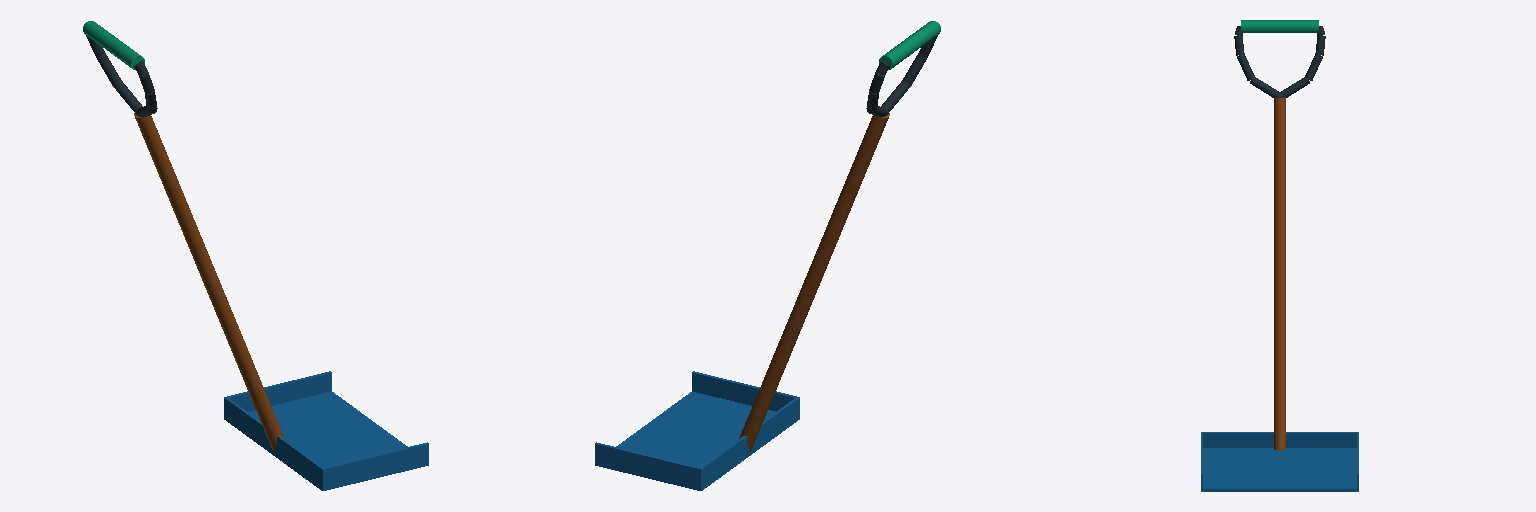
URDF robot description (d_handle_snow_shovel):
<?xml version="1.0" encoding="utf-8"?>
<robot name="d_handle_snow_shovel">
  <!-- Units: metres, radians, kilograms. Geometry prototype; all parts rigid. -->
  <!-- left_grip_frame +Z is the D crossbar free-rotation axis; right_grip_frame +Z is the shaft free-rotation axis. These fixed reference frames do not enable controller freedoms. -->
  <!-- Inertia: homogeneous 650 kg/m^3 proxy, including overlapping primitive joints; not a measured material or load model. -->
  <link name="shovel_tool">
    <inertial>
      <origin xyz="-0.08124559353 -5.296994915e-08 0.3355950539" rpy="0 0 0" />
      <mass value="1.854031007" />
      <inertia ixx="0.3378857647" ixy="-2.456975407e-08" ixz="0.1559840999" iyy="0.4022006548" iyz="4.987525286e-08" izz="0.1067577817" />
    </inertial>
    <visual name="shaft">
      <origin xyz="-0.182860464 -7.360508846e-08 0.465362279" rpy="1.472101769e-07 -0.3744072732 -0" />
      <geometry>
        <cylinder radius="0.018" length="1" />
      </geometry>
      <material name="shaft_material">
        <color rgba="0.53 0.32 0.15 1" />
      </material>
    </visual>
    <collision name="shaft">
      <origin xyz="-0.182860464 -7.360508846e-08 0.465362279" rpy="1.472101769e-07 -0.3744072732 -0" />
      <geometry>
        <cylinder radius="0.018" length="1" />
      </geometry>
    </collision>
    <visual name="d_handle_crossbar">
      <origin xyz="-0.4388651136 -1.766522123e-07 1.11686947" rpy="5.383784227e-08 -1.57079619 -1.570796327" />
      <geometry>
        <cylinder radius="0.018" length="0.22" />
      </geometry>
      <material name="d_handle_crossbar_material">
        <color rgba="0.09 0.57 0.43 1" />
      </material>
    </visual>
    <collision name="d_handle_crossbar">
      <origin xyz="-0.4388651136 -1.766522123e-07 1.11686947" rpy="5.383784227e-08 -1.57079619 -1.570796327" />
      <geometry>
        <cylinder radius="0.018" length="0.22" />
      </geometry>
    </collision>
    <visual name="d_handle_minus_0">
      <origin xyz="-0.4342935959 -0.1140001748 1.105235397" rpy="-2.831889856 0.3744072732 3.141592654" />
      <geometry>
        <cylinder radius="0.012" length="0.0262488095" />
      </geometry>
      <material name="d_handle_minus_0_material">
        <color rgba="0.18 0.23 0.26 1" />
      </material>
    </visual>
    <collision name="d_handle_minus_0">
      <origin xyz="-0.4342935959 -0.1140001748 1.105235397" rpy="-2.831889856 0.3744072732 3.141592654" />
      <geometry>
        <cylinder radius="0.012" length="0.0262488095" />
      </geometry>
    </collision>
    <visual name="d_handle_minus_1">
      <origin xyz="-0.4196647587 -0.1150001689 1.068006415" rpy="3.032931291 0.3744072732 3.141592654" />
      <geometry>
        <cylinder radius="0.012" length="0.05532630477" />
      </geometry>
      <material name="d_handle_minus_1_material">
        <color rgba="0.18 0.23 0.26 1" />
      </material>
    </visual>
    <collision name="d_handle_minus_1">
      <origin xyz="-0.4196647587 -0.1150001689 1.068006415" rpy="3.032931291 0.3744072732 3.141592654" />
      <geometry>
        <cylinder radius="0.012" length="0.05532630477" />
      </geometry>
    </collision>
    <visual name="d_handle_minus_2">
      <origin xyz="-0.3968072017 -0.09600015972 1.009836132" rpy="2.802518793 -0.4565578704 1.570796327" />
      <geometry>
        <cylinder radius="0.012" length="0.07696752562" />
      </geometry>
      <material name="d_handle_minus_2_material">
        <color rgba="0.18 0.23 0.26 1" />
      </material>
    </visual>
    <collision name="d_handle_minus_2">
      <origin xyz="-0.3968072017 -0.09600015972 1.009836132" rpy="2.802518793 -0.4565578704 1.570796327" />
      <geometry>
        <cylinder radius="0.012" length="0.07696752562" />
      </geometry>
    </collision>
    <visual name="d_handle_minus_3">
      <origin xyz="-0.374863949 -0.04000015089 0.9539926664" rpy="2.946526272 -1.043939411 1.570796327" />
      <geometry>
        <cylinder radius="0.012" length="0.09433981132" />
      </geometry>
      <material name="d_handle_minus_3_material">
        <color rgba="0.18 0.23 0.26 1" />
      </material>
    </visual>
    <collision name="d_handle_minus_3">
      <origin xyz="-0.374863949 -0.04000015089 0.9539926664" rpy="2.946526272 -1.043939411 1.570796327" />
      <geometry>
        <cylinder radius="0.012" length="0.09433981132" />
      </geometry>
    </collision>
    <visual name="d_handle_plus_0">
      <origin xyz="-0.4342936081 0.1139998252 1.105235428" rpy="2.831889562 0.3744072732 3.141592654" />
      <geometry>
        <cylinder radius="0.012" length="0.0262488095" />
      </geometry>
      <material name="d_handle_plus_0_material">
        <color rgba="0.18 0.23 0.26 1" />
      </material>
    </visual>
    <collision name="d_handle_plus_0">
      <origin xyz="-0.4342936081 0.1139998252 1.105235428" rpy="2.831889562 0.3744072732 3.141592654" />
      <geometry>
        <cylinder radius="0.012" length="0.0262488095" />
      </geometry>
    </collision>
    <visual name="d_handle_plus_1">
      <origin xyz="-0.4196647711 0.1149998311 1.068006446" rpy="-3.032931585 0.3744072732 3.141592654" />
      <geometry>
        <cylinder radius="0.012" length="0.05532630477" />
      </geometry>
      <material name="d_handle_plus_1_material">
        <color rgba="0.18 0.23 0.26 1" />
      </material>
    </visual>
    <collision name="d_handle_plus_1">
      <origin xyz="-0.4196647711 0.1149998311 1.068006446" rpy="-3.032931585 0.3744072732 3.141592654" />
      <geometry>
        <cylinder radius="0.012" length="0.05532630477" />
      </geometry>
    </collision>
    <visual name="d_handle_plus_2">
      <origin xyz="-0.396807212 0.09599984028 1.009836159" rpy="2.802518746 0.4565575623 1.570796327" />
      <geometry>
        <cylinder radius="0.012" length="0.07696752562" />
      </geometry>
      <material name="d_handle_plus_2_material">
        <color rgba="0.18 0.23 0.26 1" />
      </material>
    </visual>
    <collision name="d_handle_plus_2">
      <origin xyz="-0.396807212 0.09599984028 1.009836159" rpy="2.802518746 0.4565575623 1.570796327" />
      <geometry>
        <cylinder radius="0.012" length="0.07696752562" />
      </geometry>
    </collision>
    <visual name="d_handle_plus_3">
      <origin xyz="-0.3748639533 0.03999984911 0.9539926774" rpy="2.946526178 1.043939127 1.570796327" />
      <geometry>
        <cylinder radius="0.012" length="0.09433981132" />
      </geometry>
      <material name="d_handle_plus_3_material">
        <color rgba="0.18 0.23 0.26 1" />
      </material>
    </visual>
    <collision name="d_handle_plus_3">
      <origin xyz="-0.3748639533 0.03999984911 0.9539926774" rpy="2.946526178 1.043939127 1.570796327" />
      <geometry>
        <cylinder radius="0.012" length="0.09433981132" />
      </geometry>
    </collision>
    <visual name="pan_bottom">
      <origin xyz="0.12 0 -0.006" rpy="0 -0 0" />
      <geometry>
        <box size="0.28 0.45 0.008" />
      </geometry>
      <material name="pan_bottom_material">
        <color rgba="0.12 0.4 0.59 1" />
      </material>
    </visual>
    <collision name="pan_bottom">
      <origin xyz="0.12 0 -0.006" rpy="0 -0 0" />
      <geometry>
        <box size="0.28 0.45 0.008" />
      </geometry>
    </collision>
    <visual name="pan_side_minus">
      <origin xyz="0.12 -0.221 0.0215" rpy="0 -0 0" />
      <geometry>
        <box size="0.28 0.008 0.047" />
      </geometry>
      <material name="pan_side_minus_material">
        <color rgba="0.12 0.4 0.59 1" />
      </material>
    </visual>
    <collision name="pan_side_minus">
      <origin xyz="0.12 -0.221 0.0215" rpy="0 -0 0" />
      <geometry>
        <box size="0.28 0.008 0.047" />
      </geometry>
    </collision>
    <visual name="pan_side_plus">
      <origin xyz="0.12 0.221 0.0215" rpy="0 -0 0" />
      <geometry>
        <box size="0.28 0.008 0.047" />
      </geometry>
      <material name="pan_side_plus_material">
        <color rgba="0.12 0.4 0.59 1" />
      </material>
    </visual>
    <collision name="pan_side_plus">
      <origin xyz="0.12 0.221 0.0215" rpy="0 -0 0" />
      <geometry>
        <box size="0.28 0.008 0.047" />
      </geometry>
    </collision>
    <visual name="pan_back">
      <origin xyz="-0.016 0 0.0215" rpy="0 -0 0" />
      <geometry>
        <box size="0.008 0.434 0.047" />
      </geometry>
      <material name="pan_back_material">
        <color rgba="0.12 0.4 0.59 1" />
      </material>
    </visual>
    <collision name="pan_back">
      <origin xyz="-0.016 0 0.0215" rpy="0 -0 0" />
      <geometry>
        <box size="0.008 0.434 0.047" />
      </geometry>
    </collision>
  </link>
  <link name="left_grip_frame" />
  <joint name="left_grip_reference" type="fixed">
    <parent link="shovel_tool" />
    <child link="left_grip_frame" />
    <origin xyz="-0.4388651136 -1.766522123e-07 1.11686947" rpy="1.570795952 -1.196389054 -3.141592251" />
  </joint>
  <link name="right_grip_frame" />
  <joint name="right_grip_reference" type="fixed">
    <parent link="shovel_tool" />
    <child link="right_grip_frame" />
    <origin xyz="-0.3145199981 -1.266007522e-07 0.8004231199" rpy="-0.3744072732 -1.370121269e-07 1.570796381" />
  </joint>
</robot>

--- Facts derived from the render (not from the file) ---
Views: 3 orthographic renders of the robot side by side, from view 1: azimuth 30°, elevation 25°; view 2: azimuth 150°, elevation 25°; view 3: azimuth 270°, elevation 25°.
Robot: d_handle_snow_shovel — 3 links, 2 joints (2 fixed); root link shovel_tool; default pose: every joint at zero.
Links seen in each view (by area): view 1: shovel_tool; view 2: shovel_tool; view 3: shovel_tool.
Boxes of the visible links, <box> form: shovel_tool: <box>83,21,428,490</box>; shovel_tool: <box>595,21,940,490</box>; shovel_tool: <box>1201,20,1358,491</box>.
Bounding box of the posed robot: 0.7169 × 0.45 × 1.14 m (x, y, z).
Geometry: primitives only (box / cylinder / sphere), no mesh files.
